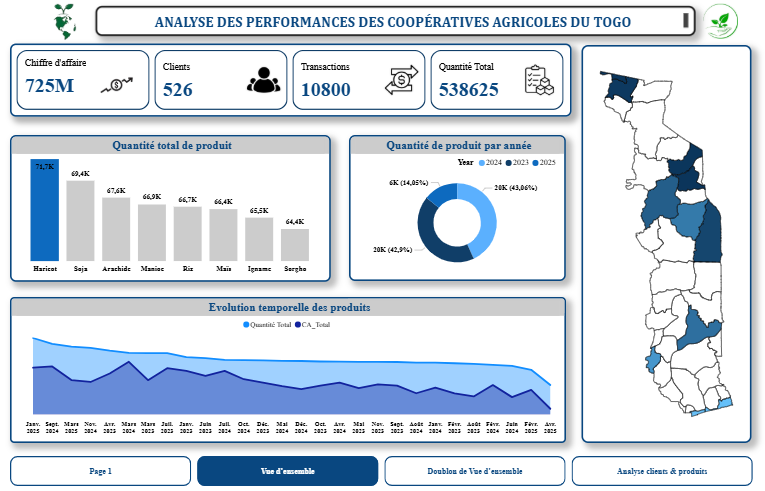

The page's visual inventory and layout, read from the dashboard file:
{"tool":"powerbi","page":{"name":"Vue d’ensemble","canvas":[1280,1170],"ordinal":0},"visuals":[{"type":"textbox","box":[90,15,1098.3,50],"z":0},{"type":"cardVisual","fields":{"Data":["_Mesures.CA_Total","_Mesures.Clients_Actifs","_Mesures.Nbre_ de_produit","_Mesures.qte_Total"]},"box":[20.5,78.1,926,121.9],"z":1000},{"type":"shapeMap","title":"Chiffre d''affaire par préfecture","fields":{"Category":["prefectures.prefecture"],"Value":["_Mesures.CA_Total"]},"box":[973.3,80,283.3,736.7],"z":2000},{"type":"columnChart","title":"Quantité total de produit","fields":{"Category":["ventes_cooperatives.produit"],"Y":["_Mesures.qte_Total"]},"box":[20,230,450,244.3],"z":3000},{"type":"treemap","title":"Quantité de produits par canaux de vente","fields":{"Values":["_Mesures.Quantité Total"],"Group":["ventes_cooperatives.canal_vente"]},"box":[495,230,450,245],"z":4000},{"type":"lineChart","title":"Evolution temporelle des produits","fields":{"Category":["calendrier.Month & Year"],"Y2":["_Mesures.CA_Total"],"Y":["_Mesures.Quantité Totale"]},"box":[20,860,1236.7,285],"z":5000},{"type":"image","box":[0,0,110,83.3],"z":7000},{"type":"image","box":[1200,8.3,56.7,65],"z":8000},{"type":"barChart","title":"Quantité de produits par catégorie","fields":{"Category":["catégorie_produits.categorie"],"Y":["_Mesures.Quantité Totale"]},"box":[20,507.5,450,310],"z":9000},{"type":"donutChart","title":"Quantité de produits par saison","fields":{"Y":["_Mesures.Quantité Totale"],"Category":["saisons.saisons"]},"box":[495,507.5,450,310],"z":10000}]}

Visuals, with their boxes on the page's 1280x1170 design canvas (x1, y1, x2, y2). These are canvas units, not pixel positions in the 765x491 screenshot, which may show the page scaled, cropped or inside an application window:
textbox: {"left": 90, "top": 15, "right": 1188, "bottom": 65}
cardVisual - _Mesures.CA_Total x _Mesures.Clients_Actifs: {"left": 20, "top": 78, "right": 946, "bottom": 200}
"Chiffre d''affaire par préfecture" shapeMap: {"left": 973, "top": 80, "right": 1257, "bottom": 817}
"Quantité total de produit" columnChart: {"left": 20, "top": 230, "right": 470, "bottom": 474}
"Quantité de produits par canaux de vente" treemap: {"left": 495, "top": 230, "right": 945, "bottom": 475}
"Evolution temporelle des produits" lineChart: {"left": 20, "top": 860, "right": 1257, "bottom": 1145}
image: {"left": 0, "top": 0, "right": 110, "bottom": 83}
image: {"left": 1200, "top": 8, "right": 1257, "bottom": 73}
"Quantité de produits par catégorie" barChart: {"left": 20, "top": 508, "right": 470, "bottom": 818}
"Quantité de produits par saison" donutChart: {"left": 495, "top": 508, "right": 945, "bottom": 818}
